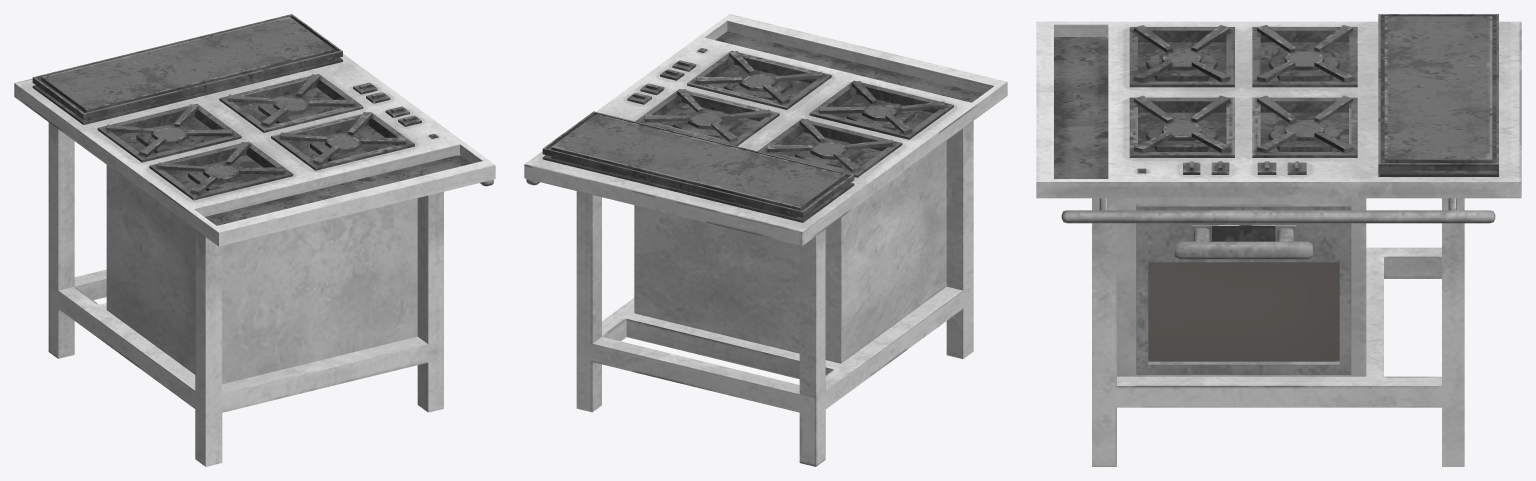
The model's file is Chapa_Cozinha.fbx.
The picture shows the model from 3 angles, left to right: view 1: azimuth 30°, elevation 25°; view 2: azimuth 150°, elevation 25°; view 3: azimuth 270°, elevation 25°; orthographic projection. The views are drawn at different scales.
Parts seen in each view (by area): view 1: Cube; view 2: Cube; view 3: Cube.
Part boxes in pixels (x1,y1,x2,y2): Cube: [14, 14, 495, 466]; Cube: [524, 14, 1007, 466]; Cube: [1036, 14, 1521, 466].
Size of the model in its own units: 115 by 101 by 141.
